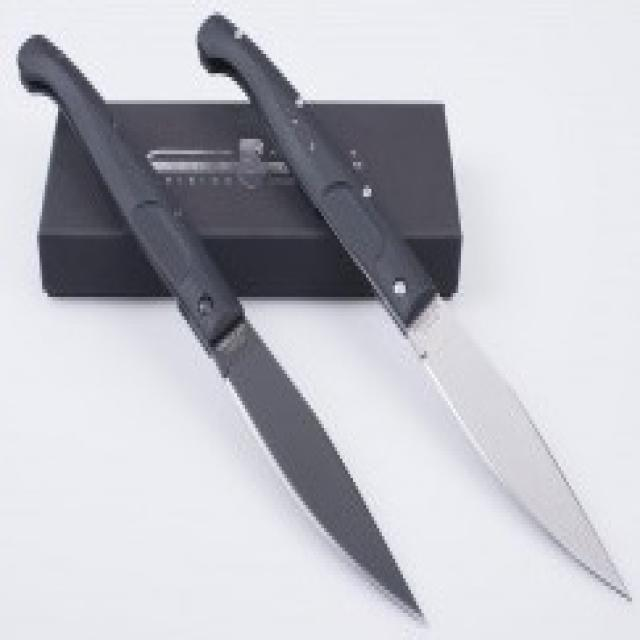knife: (195, 6, 636, 613), (12, 30, 429, 633)
